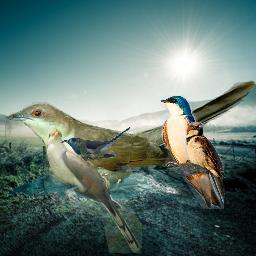Cuckoo: (5, 79, 256, 194), (44, 126, 142, 253), (61, 126, 133, 162)
Swallow: (160, 95, 224, 209), (185, 122, 225, 199)
